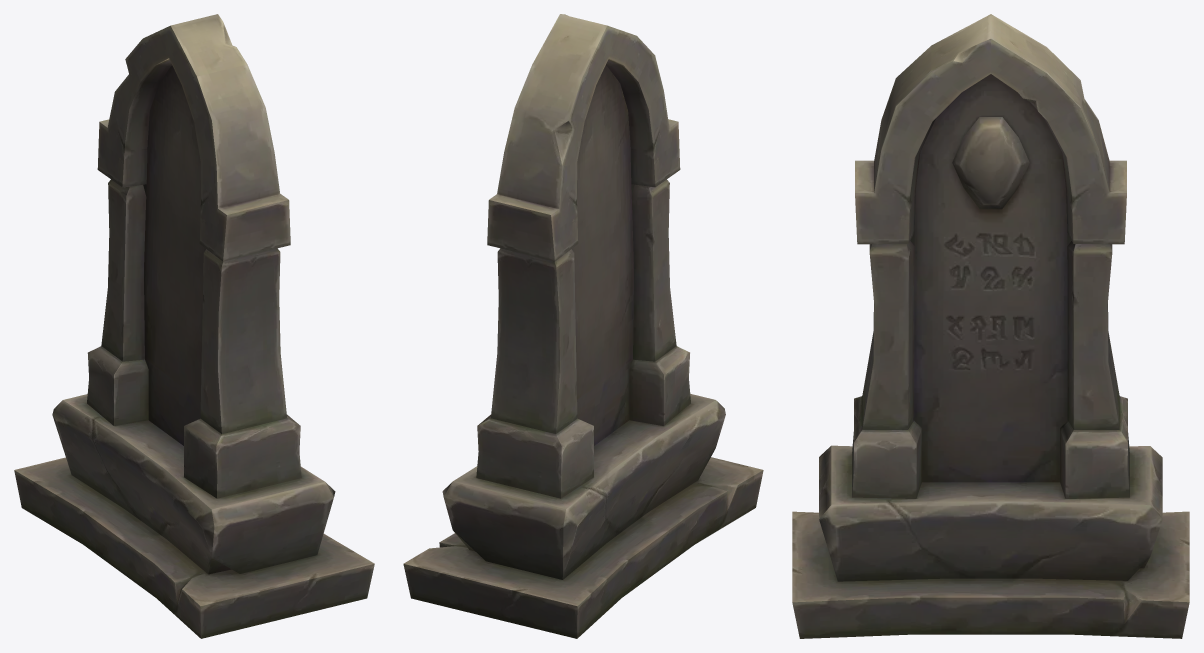
3 renders of one model, left to right at view 1: azimuth 30°, elevation 25°; view 2: azimuth 150°, elevation 25°; view 3: azimuth 270°, elevation 25°, orthographic. The views are drawn at different scales.
Size of the model in its own units: 1.22 by 3.55 by 2.25.
Materials: 1 (1 with a texture image).
